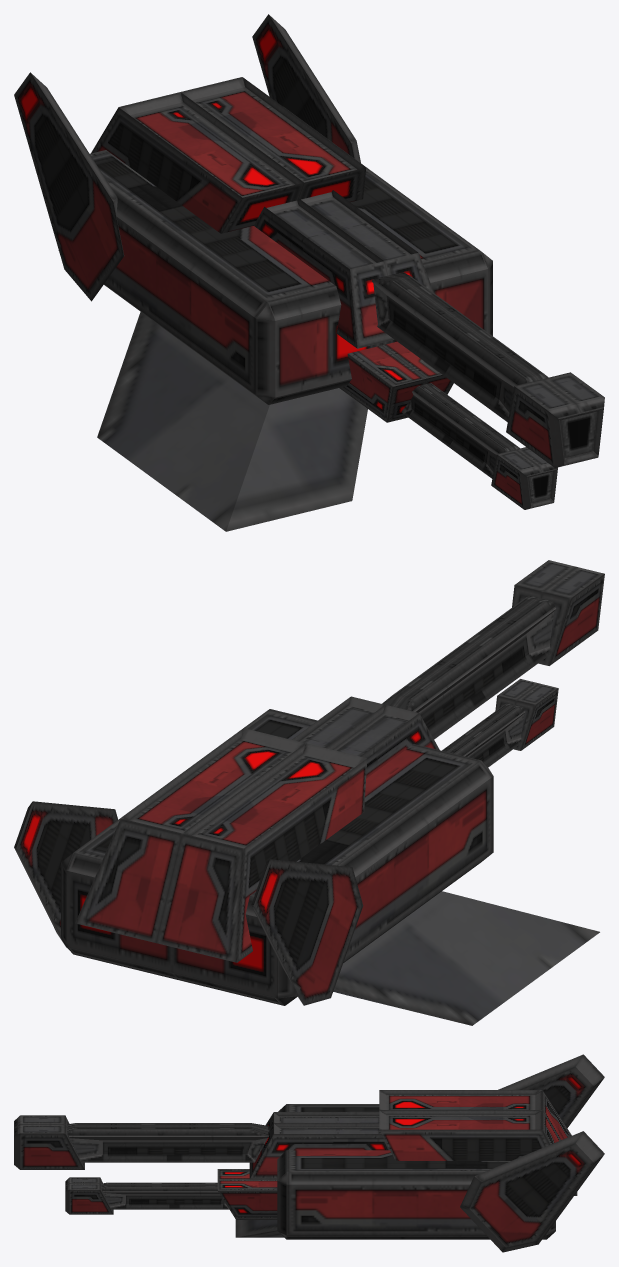
Rendered from BFP_LaserCannon01_Left.FBX.
3 views of the same model, one above another, from view 1: azimuth 30°, elevation 25°; view 2: azimuth 150°, elevation 25°; view 3: azimuth 270°, elevation 25° (orthographic). The views are drawn at different scales.
Parts seen in each view (by area): view 1: BFP_LaserCannon01_Left; view 2: BFP_LaserCannon01_Left; view 3: BFP_LaserCannon01_Left.
Part boxes in pixels (<box>): BFP_LaserCannon01_Left: <box>14,14,604,531</box>; BFP_LaserCannon01_Left: <box>14,560,604,1025</box>; BFP_LaserCannon01_Left: <box>14,1054,604,1252</box>.
Size of the model in its own units: 106 by 79.57 by 259.
Materials: 1 (1 with a texture image).
